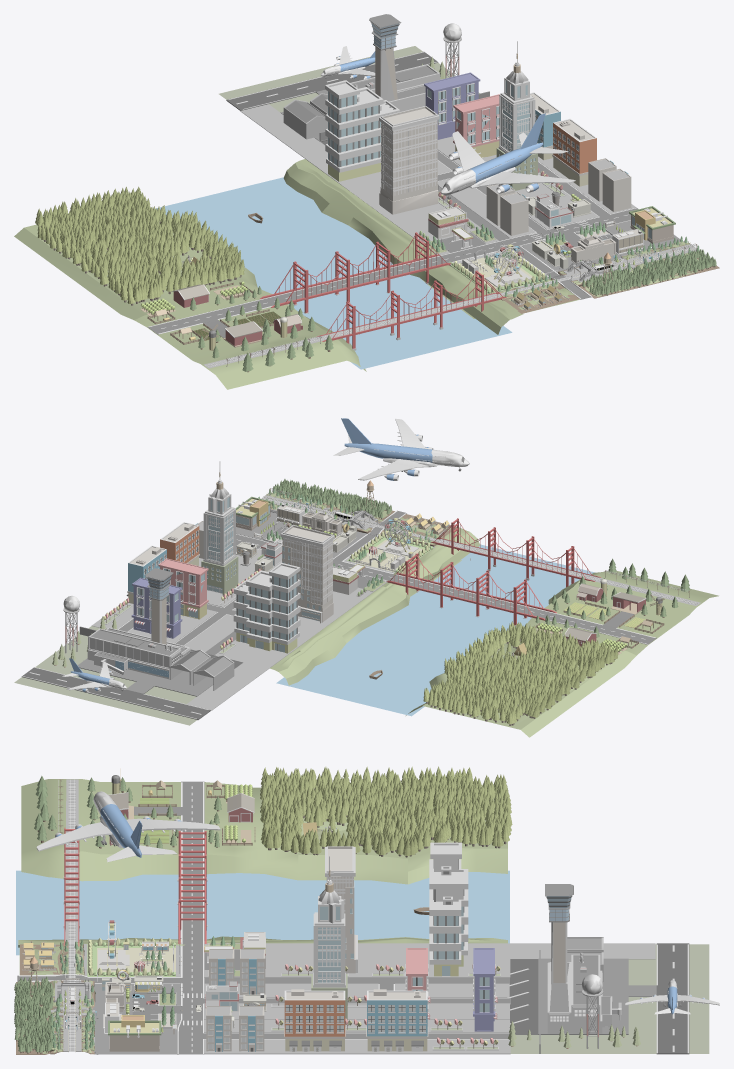
File: city-gt.glb
The picture shows the model from 3 angles, top to bottom: view 1: azimuth 30°, elevation 25°; view 2: azimuth 150°, elevation 25°; view 3: azimuth 270°, elevation 25°; orthographic projection. The views are drawn at different scales.
Bounding box in the file's own units: 292 × 93.1 × 318.
